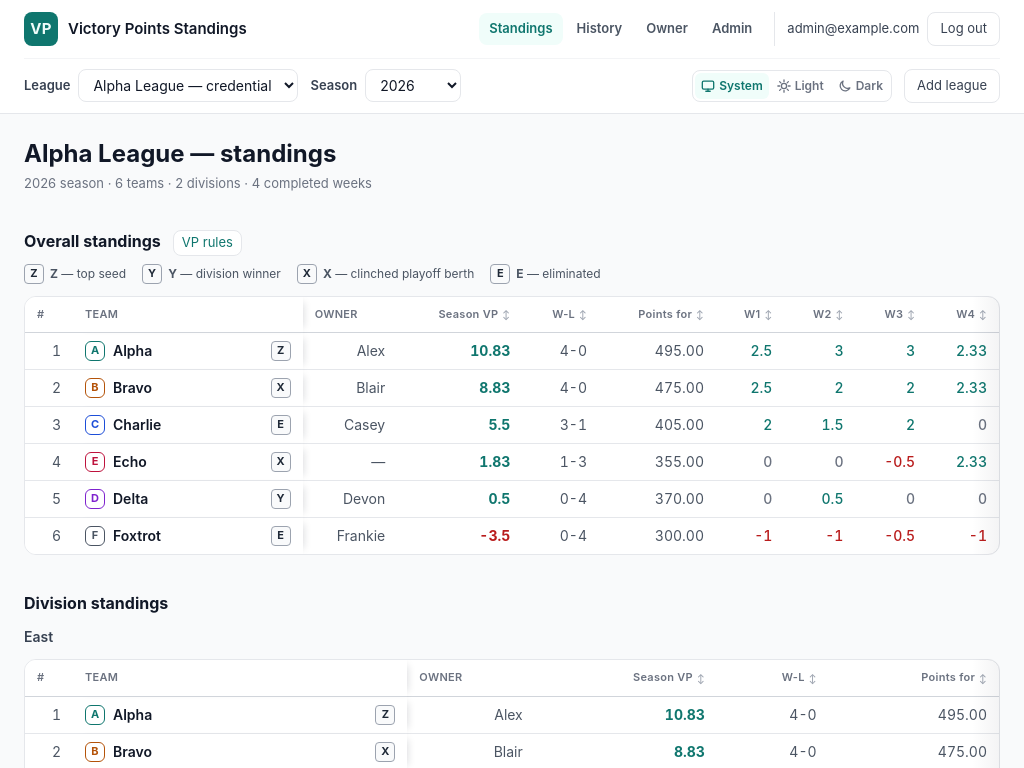
App routing › switches league and season and reloads standings
Expected: the heading "Alpha League — standings" is shown, [24,138,336,168]
Expected: the dropdown labelled "Season" shows "2026", [365,69,461,102]
Select "Beta League — no credentials" in the dropdown labelled "League": (188, 86) [78,69,298,102]
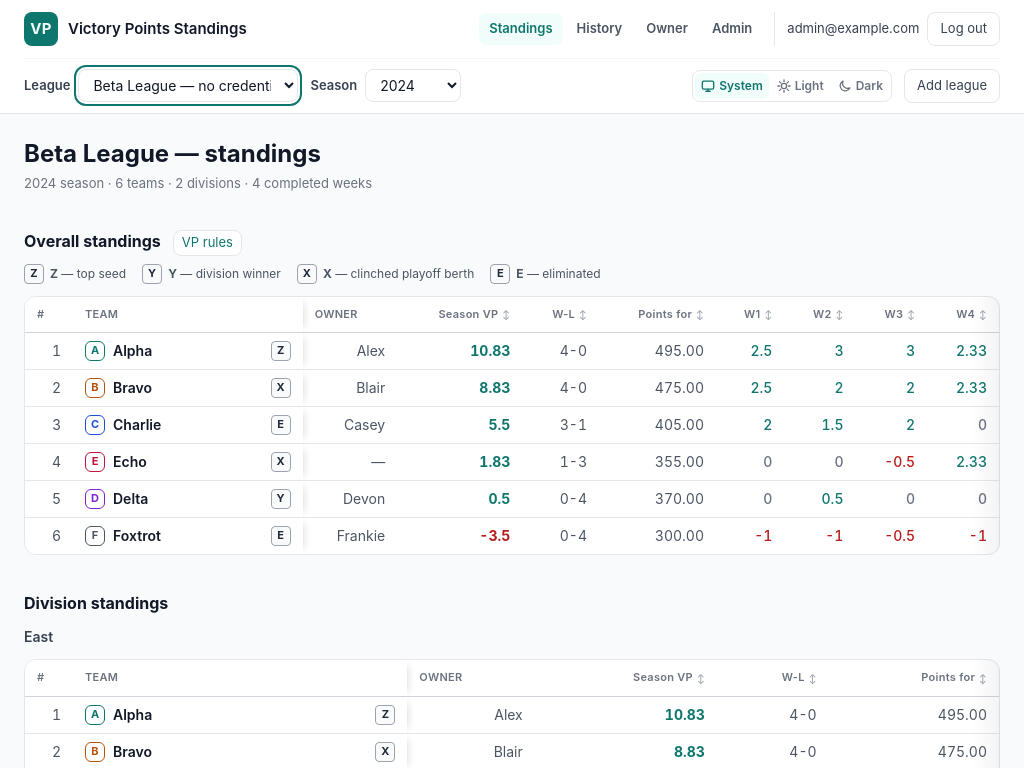
Result: the heading "Beta League — standings" is shown at [24,138,321,168]
Result: the dropdown labelled "Season" shows "2024" at [365,69,461,102]
